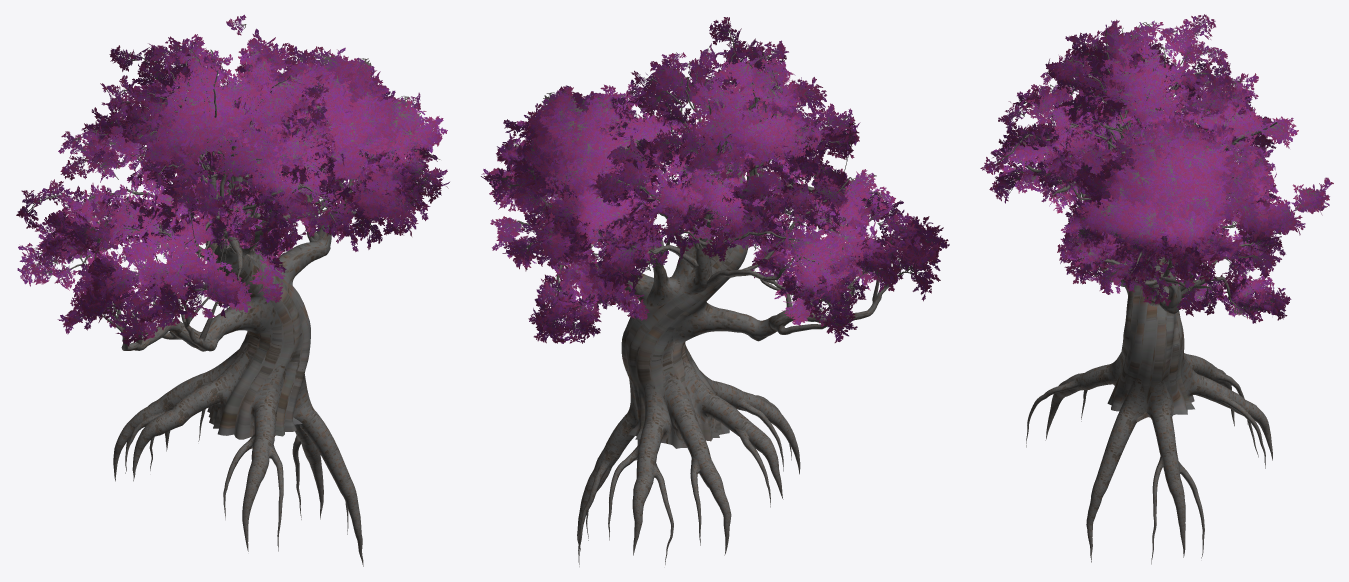
3 views of the same model, side by side, from view 1: azimuth 30°, elevation 25°; view 2: azimuth 150°, elevation 25°; view 3: azimuth 270°, elevation 25° (orthographic). The views are drawn at different scales.
Parts seen in each view (by area): view 1: SM_FH_Hero_Tree_01_LOD0; view 2: SM_FH_Hero_Tree_01_LOD0; view 3: SM_FH_Hero_Tree_01_LOD0.
Part boxes in pixels (x1=…): SM_FH_Hero_Tree_01_LOD0: x1=16, y1=14, x2=449, y2=566; SM_FH_Hero_Tree_01_LOD0: x1=481, y1=17, x2=949, y2=566; SM_FH_Hero_Tree_01_LOD0: x1=980, y1=14, x2=1333, y2=564.
Bounding box in the file's own units: 23.6 × 29.7 × 19.56.
Materials: 2 (2 with a texture image).
